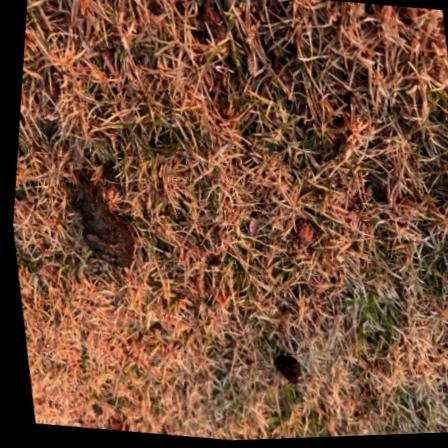dog-poop: (55, 170, 140, 279), (262, 345, 312, 392)
